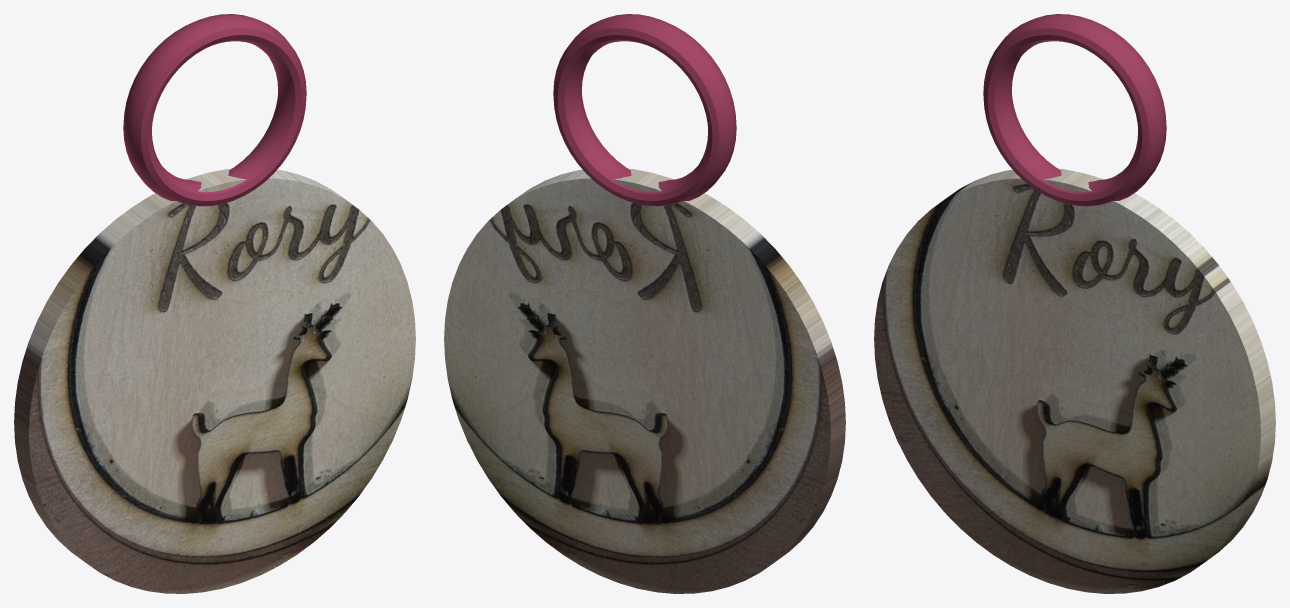
The model's file is name-ornaments.glb.
3 renders of one model, left to right at view 1: azimuth 30°, elevation 25°; view 2: azimuth 150°, elevation 25°; view 3: azimuth 330°, elevation 25°, orthographic.
Parts seen in each view (by area): view 1: Name ornament; view 2: Name ornament; view 3: Name ornament.
Boxes of the visible parts, <box> form: Name ornament: <box>14,14,415,593</box>; Name ornament: <box>444,14,845,593</box>; Name ornament: <box>874,14,1275,593</box>.
Size of the model in its own units: 0.09 by 0.1255 by 0.008.
Materials: 2 (1 with a texture image).
